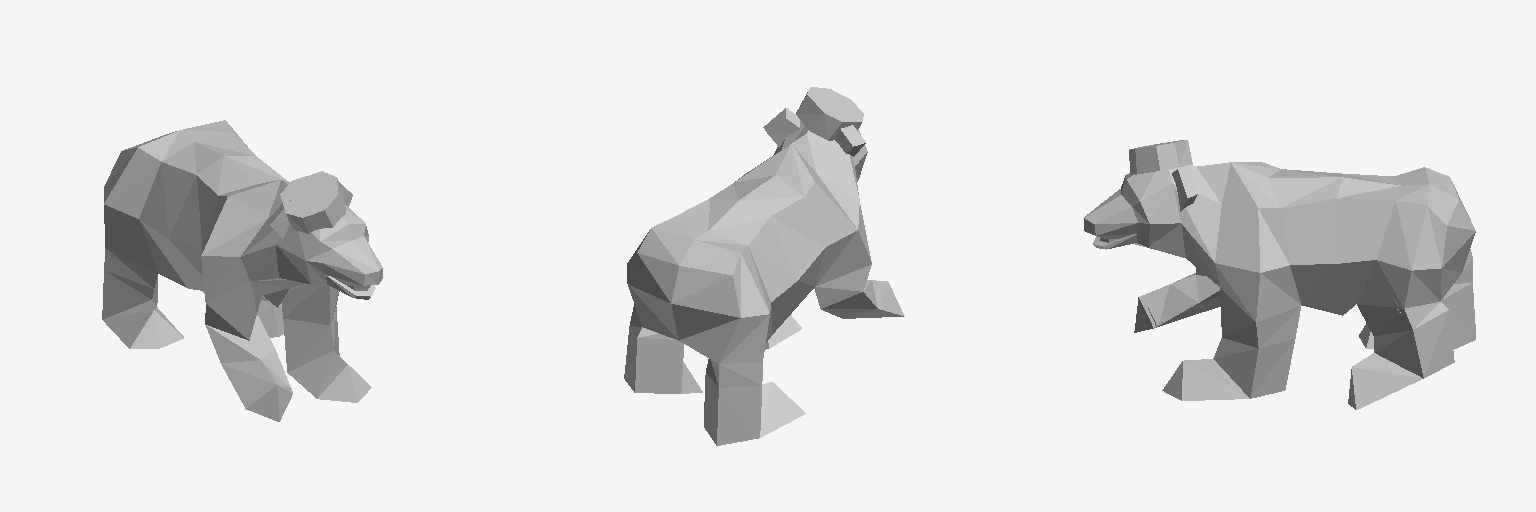
The model's file is Karhu_000002.obj.
The picture shows the model from 3 angles: view 1: azimuth 30°, elevation 25°; view 2: azimuth 150°, elevation 25°; view 3: azimuth 270°, elevation 25°; orthographic projection.
Visible parts, largest first — view 1: Karhu_Plane.003; view 2: Karhu_Plane.003; view 3: Karhu_Plane.003.
Boxes of the visible parts, x1,y1,x2,y2 form: Karhu_Plane.003: [102, 120, 382, 421]; Karhu_Plane.003: [624, 87, 904, 445]; Karhu_Plane.003: [1084, 140, 1475, 409].
Bounding box in the file's own units: 3.19 × 4.44 × 6.59.